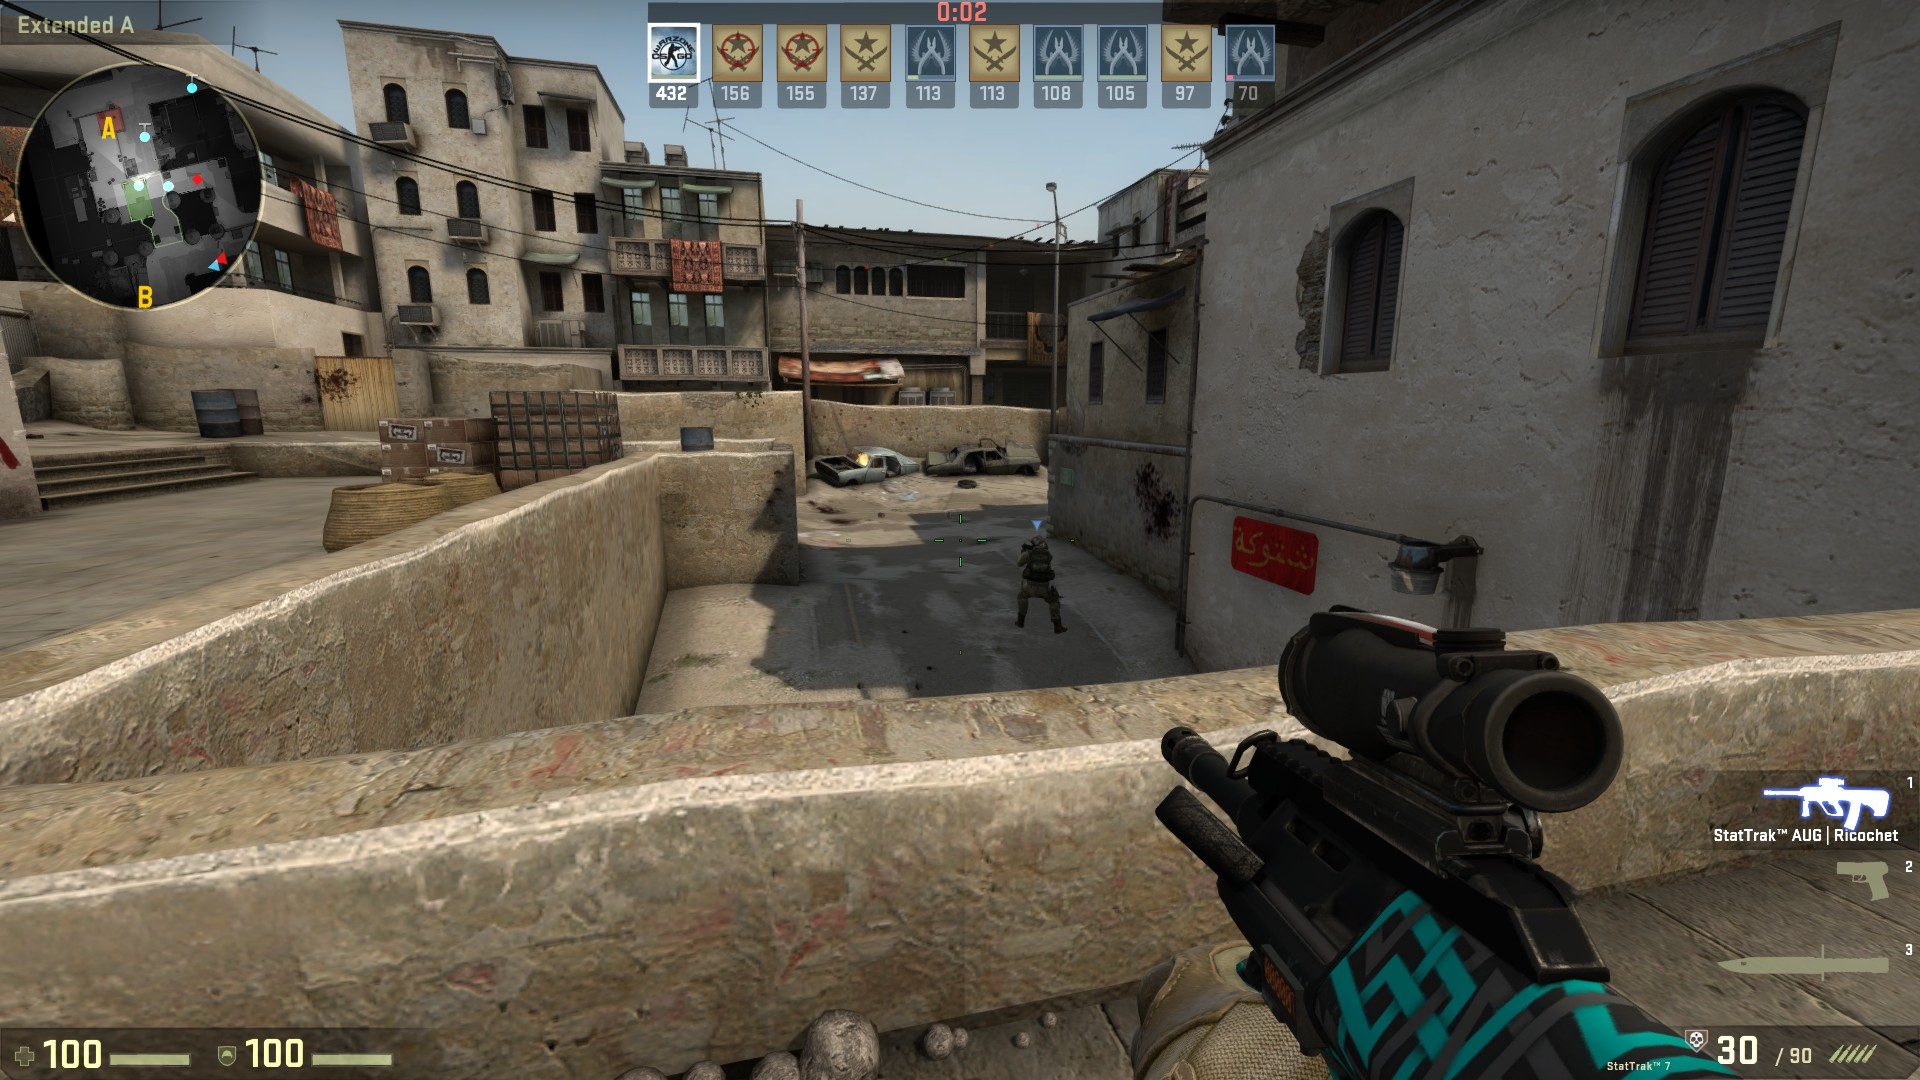c: (1015, 535, 1062, 634)
ch: (1025, 533, 1050, 554)
